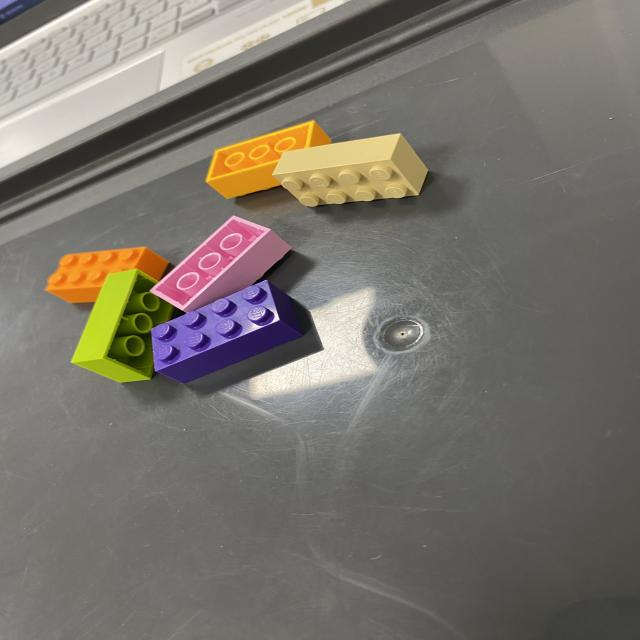C4x2x1: (155, 282, 282, 372), (154, 214, 271, 310), (157, 319, 305, 389), (274, 134, 434, 195), (69, 269, 150, 388), (274, 159, 422, 207), (208, 119, 311, 182)
